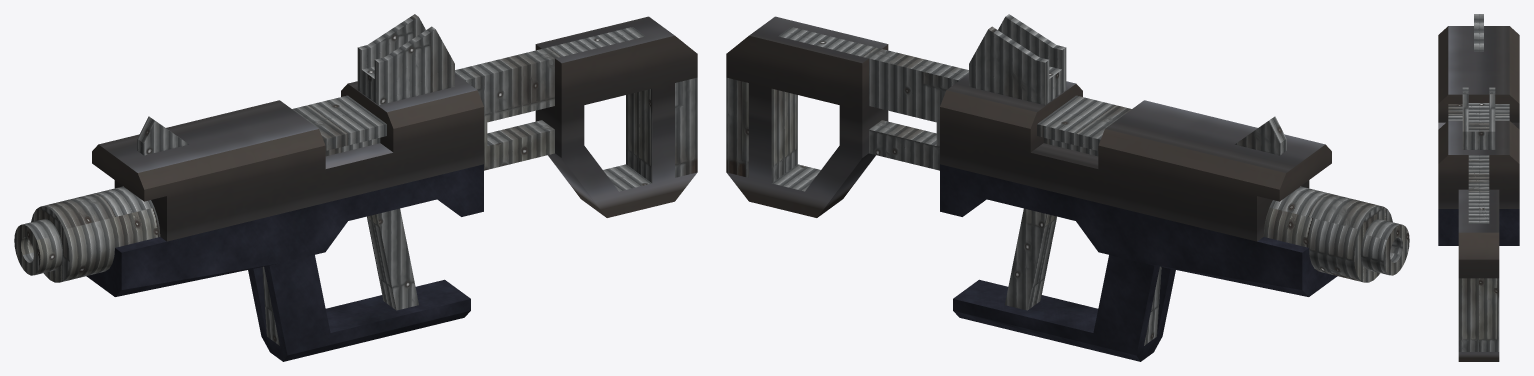
The model's file is BlasterWithScope.glb.
3 views of the same model, side by side, from view 1: azimuth 30°, elevation 25°; view 2: azimuth 150°, elevation 25°; view 3: azimuth 270°, elevation 25° (orthographic). The views are drawn at different scales.
Parts seen in each view (by area): view 1: mergedBlocks(Clone); view 2: mergedBlocks(Clone); view 3: mergedBlocks(Clone).
Boxes of the visible parts, box(x1,y1,x2,y2) form: mergedBlocks(Clone): box(14, 14, 697, 361); mergedBlocks(Clone): box(726, 14, 1409, 361); mergedBlocks(Clone): box(1438, 14, 1519, 361).
Size of the model in its own units: 2.9 by 1.26 by 0.4.
3 materials, 3 textured.
